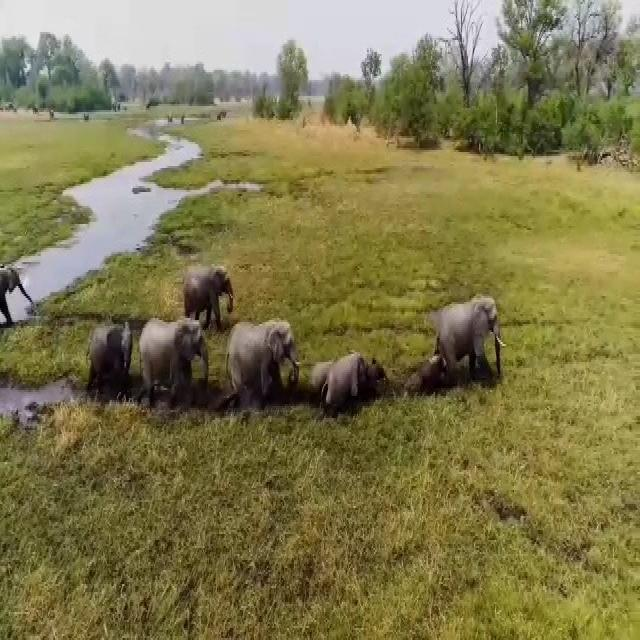Elephant: (228, 319, 302, 416), (141, 316, 207, 412), (432, 296, 510, 377), (76, 316, 137, 393), (314, 352, 386, 406), (186, 264, 235, 324), (0, 265, 23, 335)
